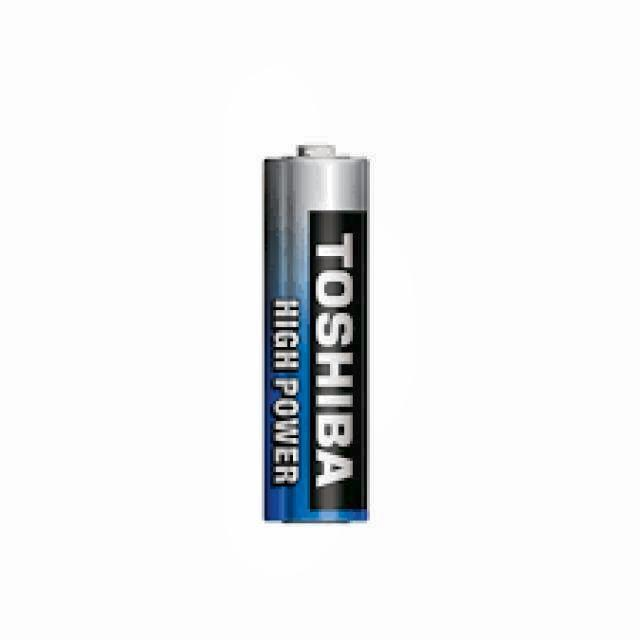battery: (262, 145, 367, 526)
